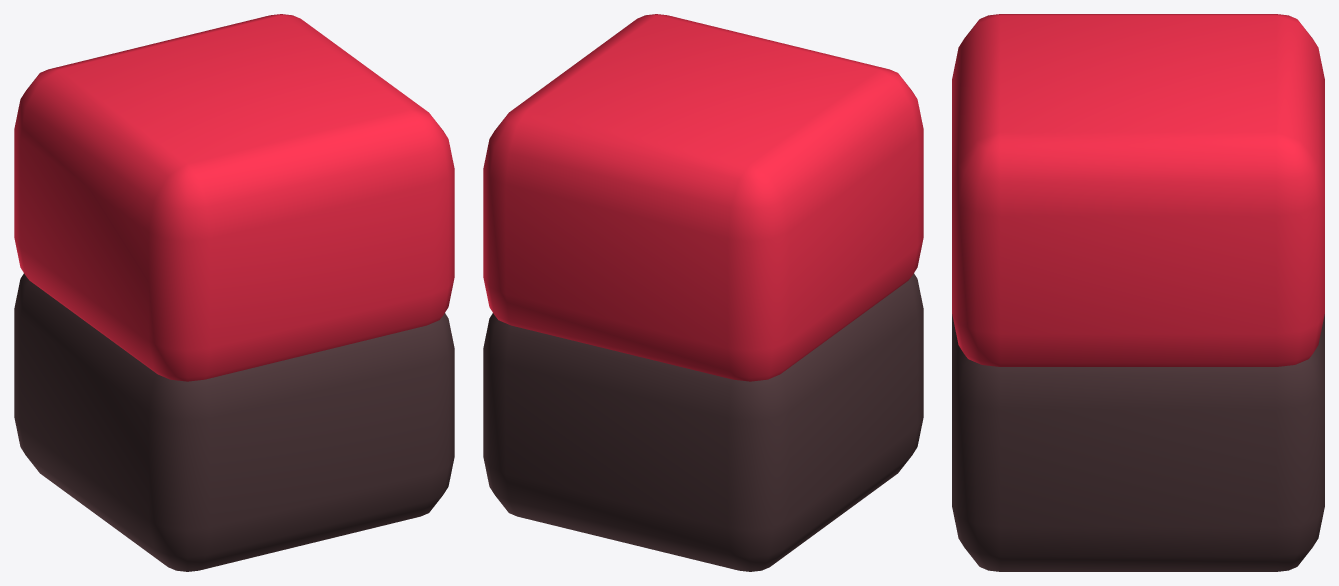
The model's file is box_mini_red.fbx.
3 renders of one model, left to right at view 1: azimuth 30°, elevation 25°; view 2: azimuth 150°, elevation 25°; view 3: azimuth 270°, elevation 25°, orthographic. The views are drawn at different scales.
Parts seen in each view (by area): view 1: ChamferBox006, ChamferBox005; view 2: ChamferBox006, ChamferBox005; view 3: ChamferBox006, ChamferBox005.
Boxes of the visible parts, <box> form: ChamferBox006: <box>14,14,454,381</box>; ChamferBox005: <box>14,273,454,571</box>; ChamferBox006: <box>483,14,923,381</box>; ChamferBox005: <box>483,273,923,571</box>; ChamferBox006: <box>952,14,1324,366</box>; ChamferBox005: <box>952,314,1324,571</box>.
Size of the model in its own units: 11.48 by 14.88 by 11.48.
